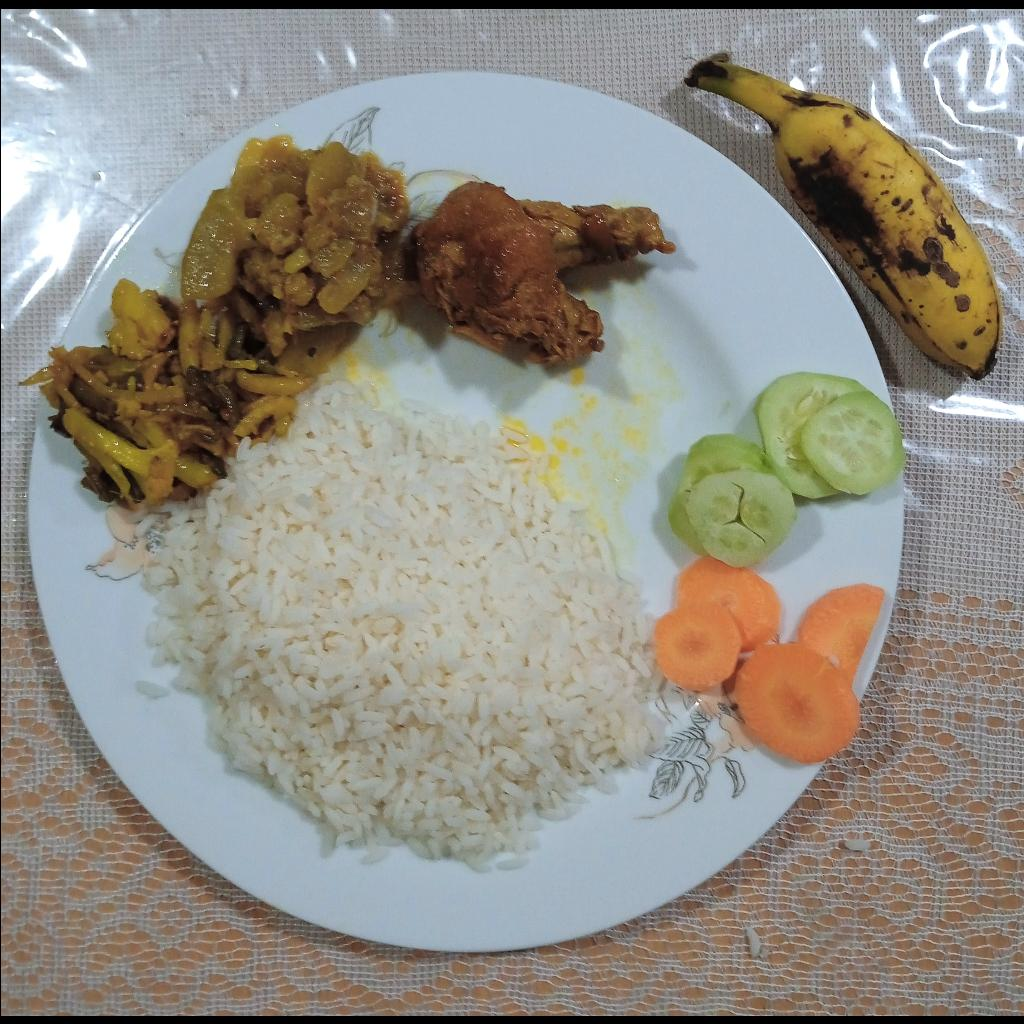banana: (733, 66, 1006, 382)
carrot: (655, 552, 888, 761)
chicken: (411, 179, 678, 372)
cucumber: (666, 371, 909, 564)
lau: (179, 134, 412, 367)
rice: (104, 381, 667, 868)
vegetable: (16, 279, 308, 509)
